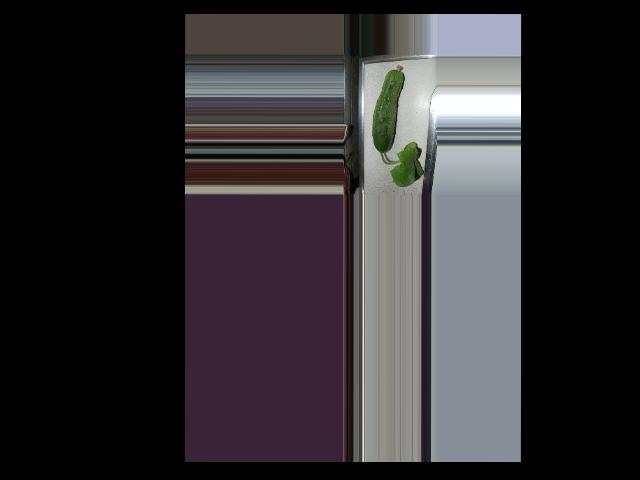cucumber: (372, 64, 403, 153)
